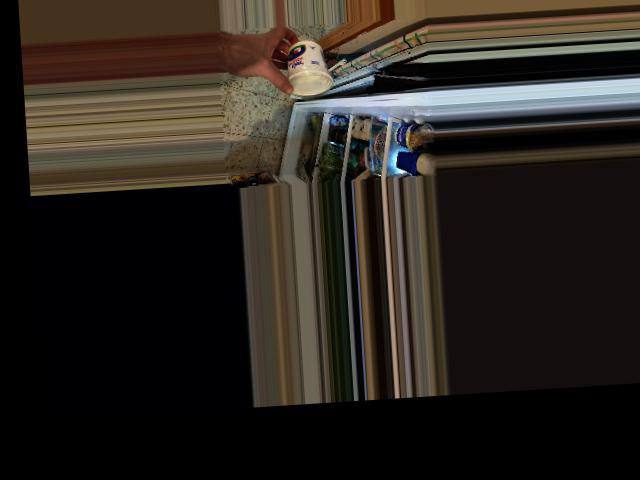cotage: (283, 41, 332, 99)
